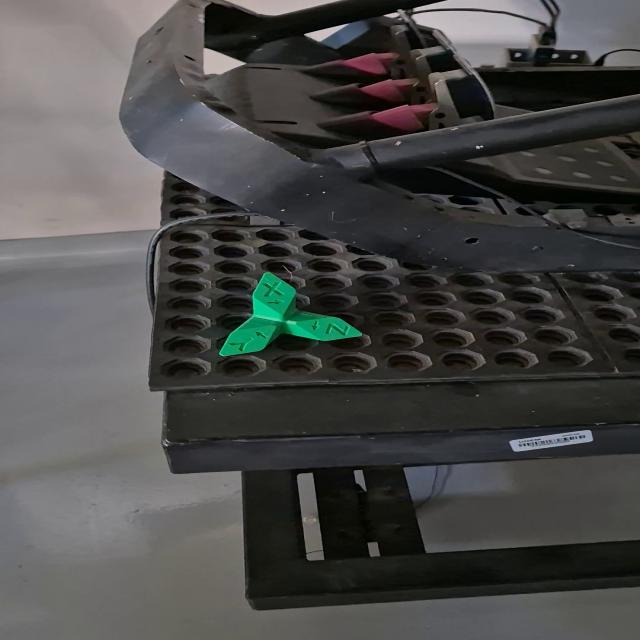objects: (217, 272, 364, 358)
